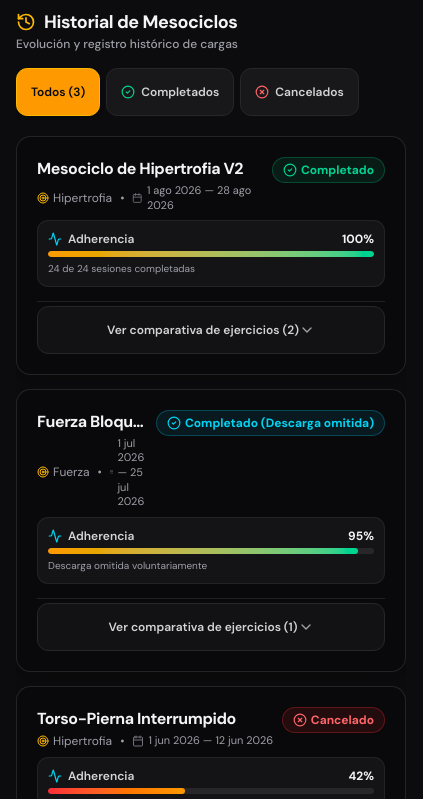
Test: TASK-40: RoutineHistoryPage — Completed & Cancelled Mesocycle History (RF-06, Constitución Art. 2, Art. 6) › Filtros de Visualización por Estado › should filter items by "Cancelados" and hide completed mesocycles
The width and height of the screenshot is (423, 799).
Click the button "Cancelados" at (300, 92), box [240, 68, 359, 116]
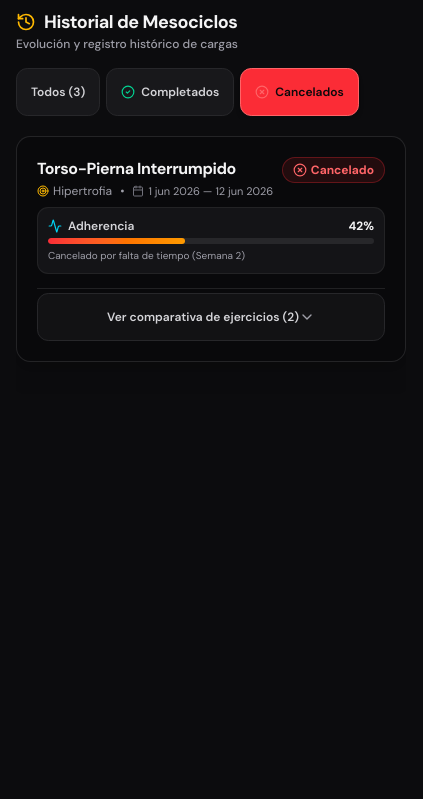
Expected: the heading "Torso-Pierna Interrumpido" is shown, [37, 158, 236, 179]
Now the heading "Mesociclo de Hipertrofia V2" is gone
Now the heading "Fuerza Bloques Uniformes" is gone
